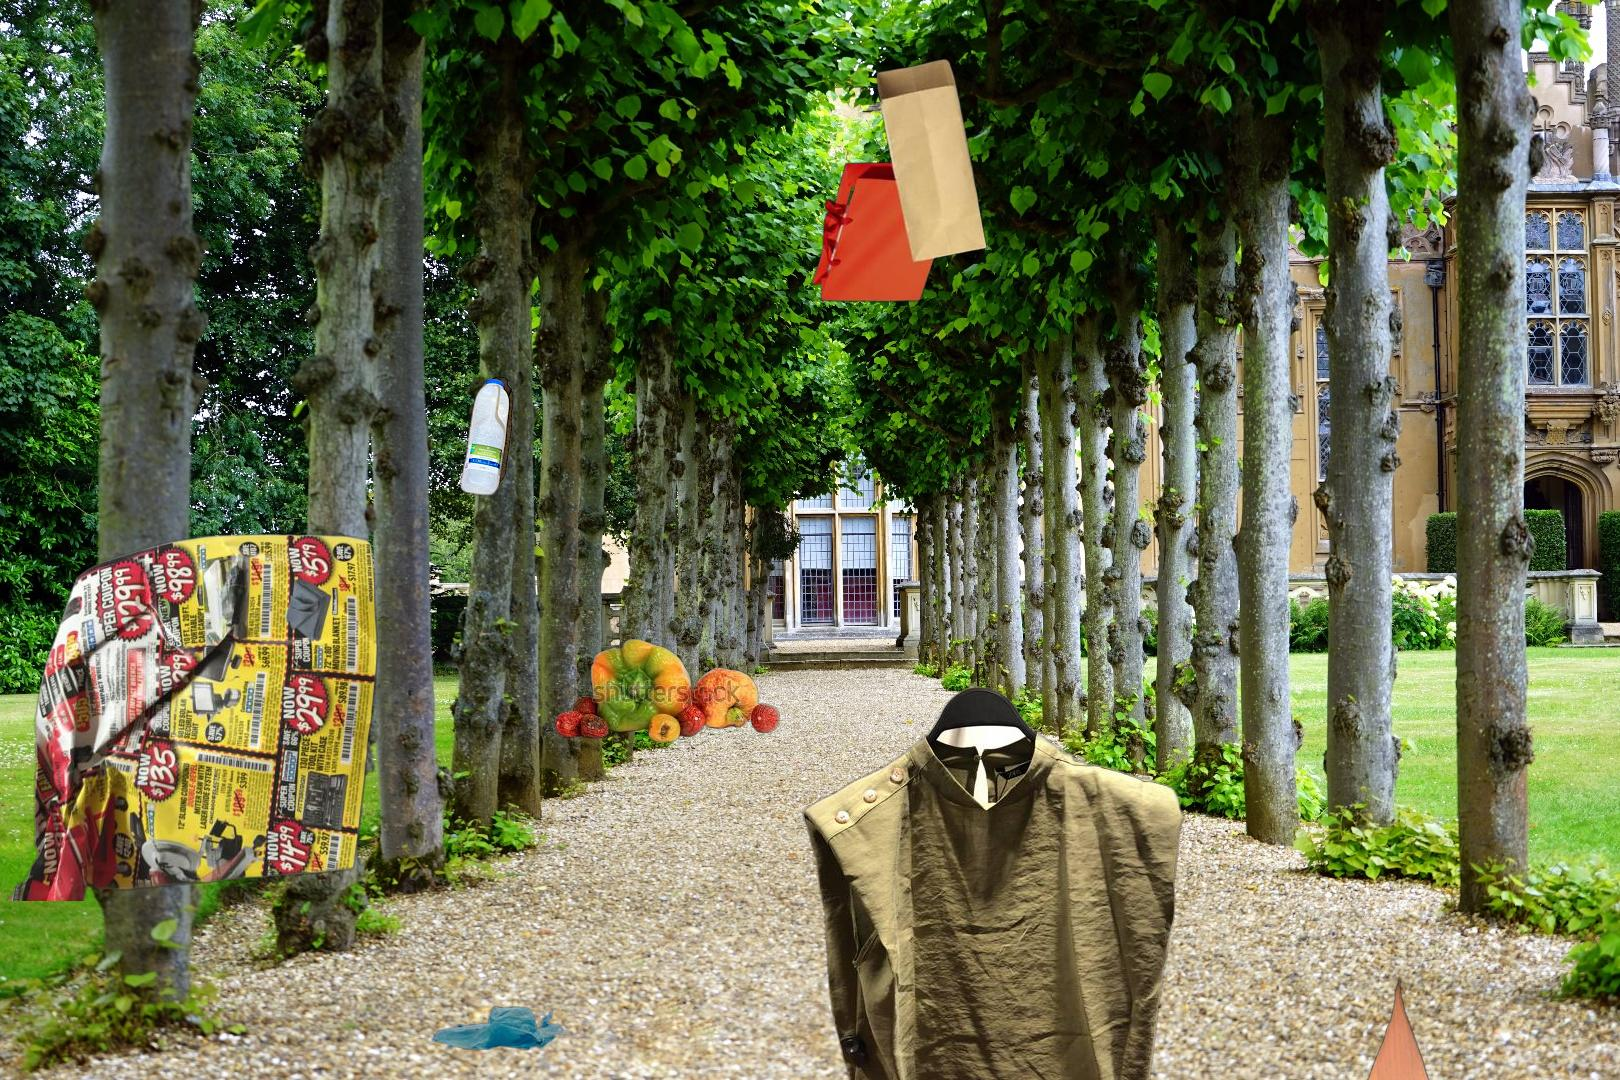biological: (552, 636, 782, 746)
clothes: (802, 664, 1186, 1080), (1320, 974, 1478, 1080)
paper: (2, 530, 382, 900)
paper-bag: (809, 58, 990, 306)
plastic-bag: (430, 1004, 567, 1053)
plastic-bottles: (438, 369, 520, 542)
